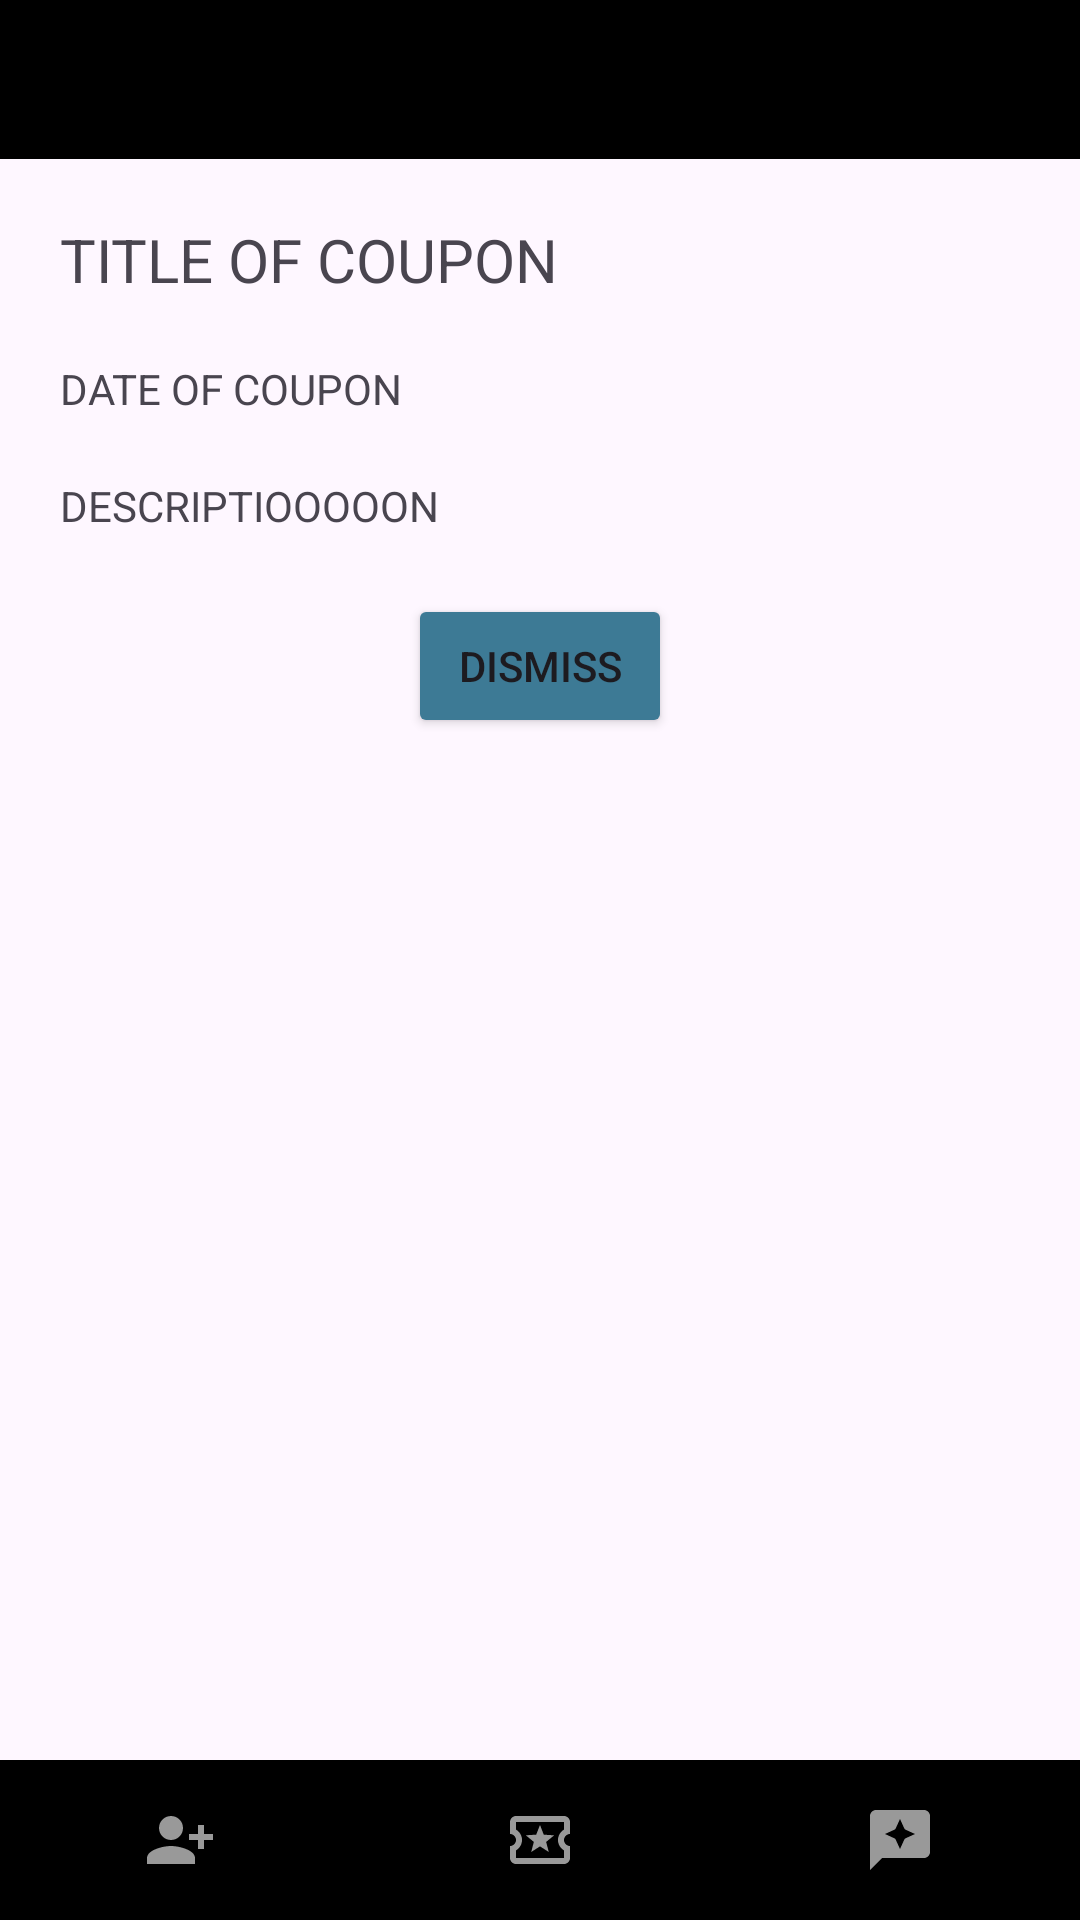

Icon bounding boxes for this 1080 × 1920 phone screenshot, format bbox(x1, y1, x2, y2):
local activity: bbox(510, 1816, 570, 1864)
person add: bbox(147, 1816, 213, 1864)
reviews: bbox(870, 1810, 930, 1870)
